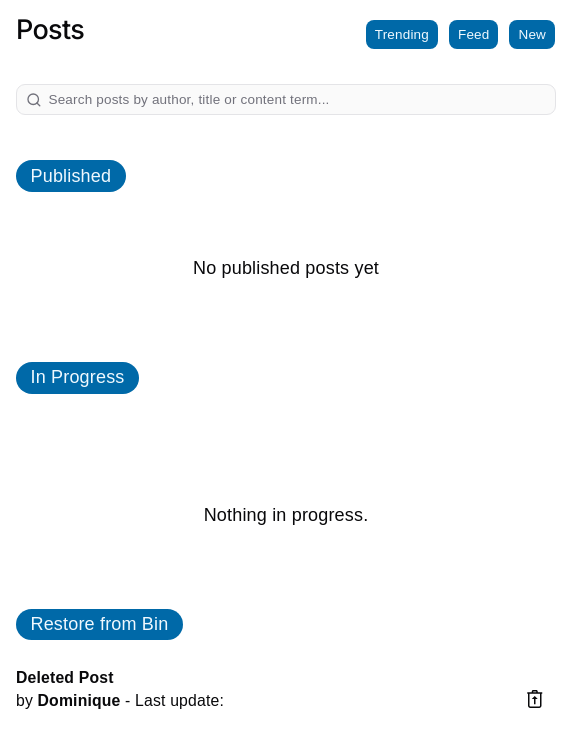
PostList › renders trashed posts and allows restore
Click the button named "restore deleted post". click: (534,699)
box: [512,683,556,714]
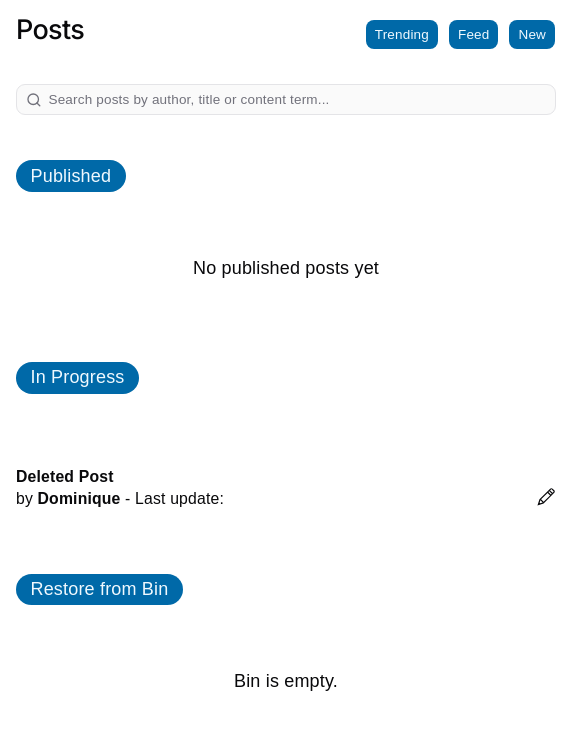
Check: the text "Deleted Post" is shown, box [16,468,114,485]
Check: the list item "Bin is empty." is shown, box [234,671,338,691]
